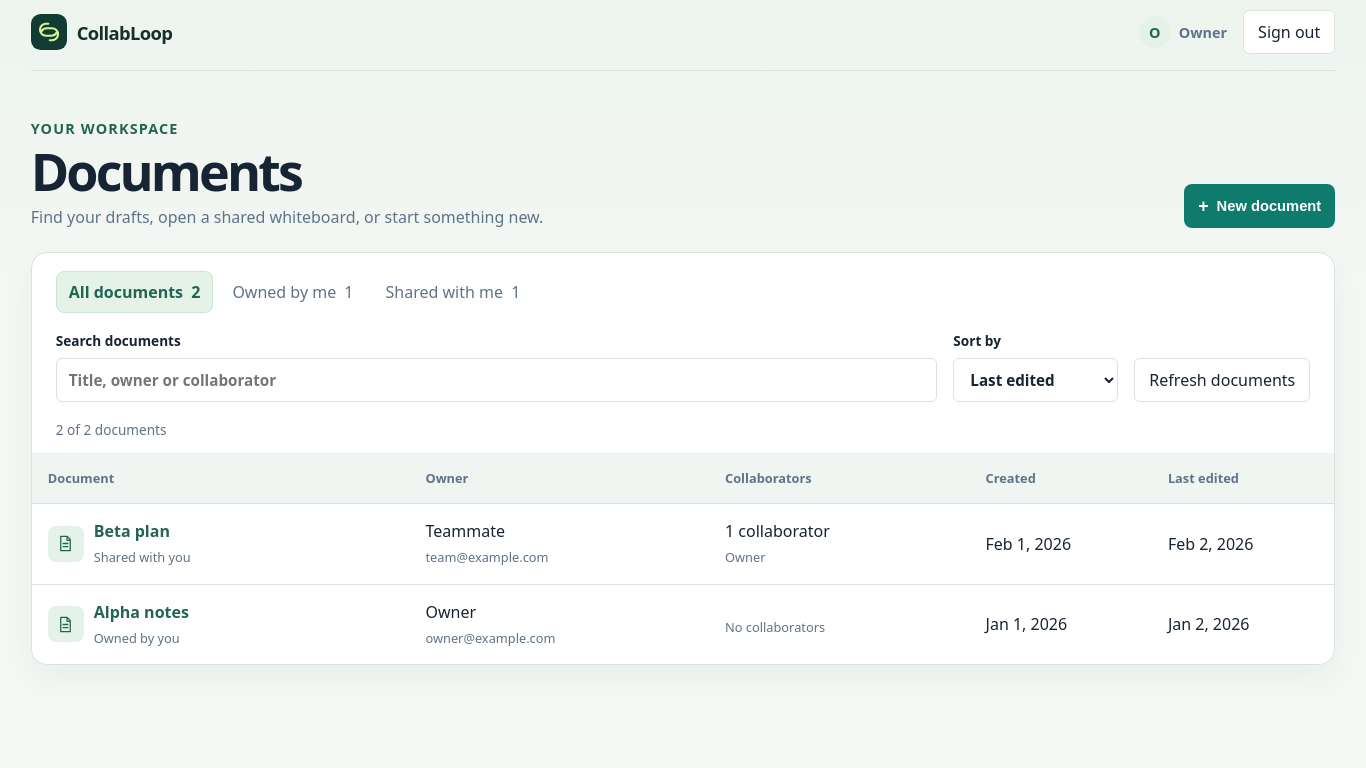
Scenario: a history failure does not block editing the live document
Click the button "Alpha notes": (141, 612) [94,601,189,623]
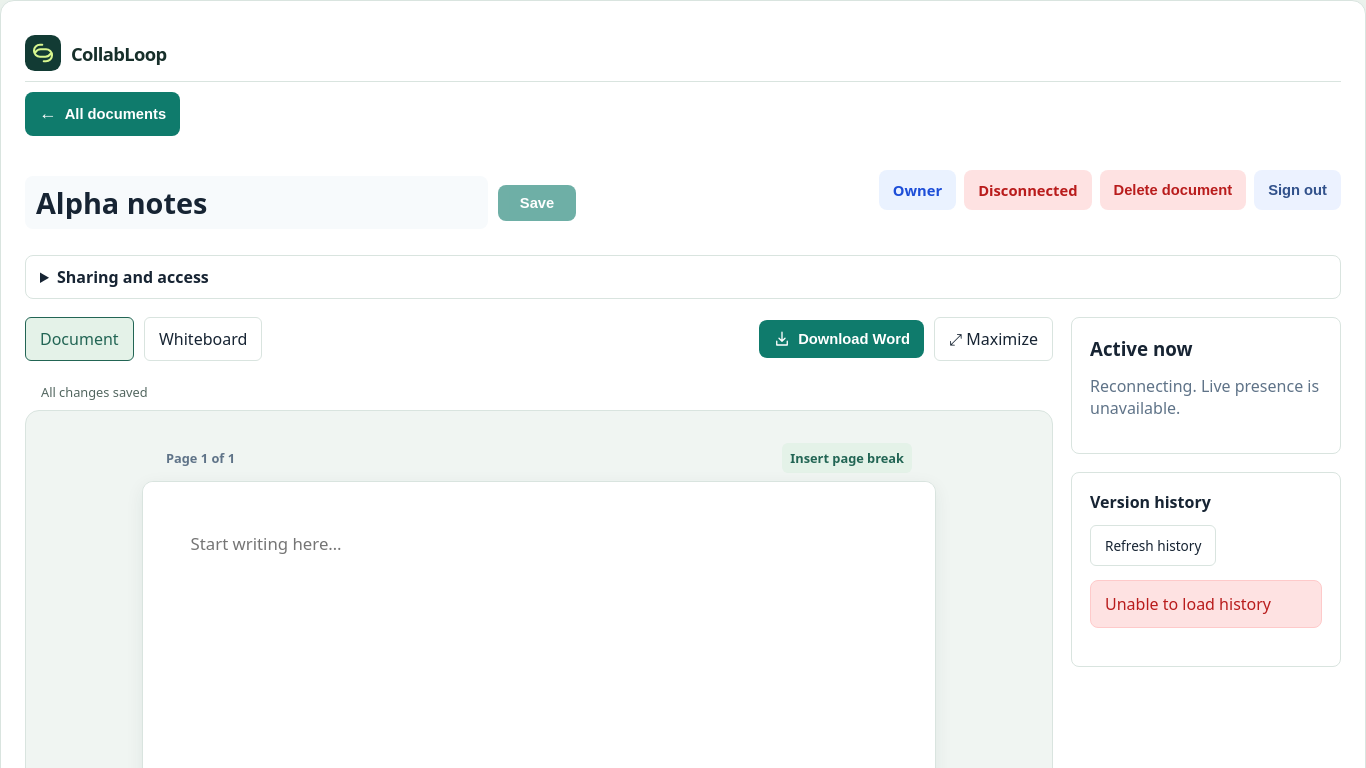
Now the message "Unable to load history" is shown, box [1090,580,1322,628]
